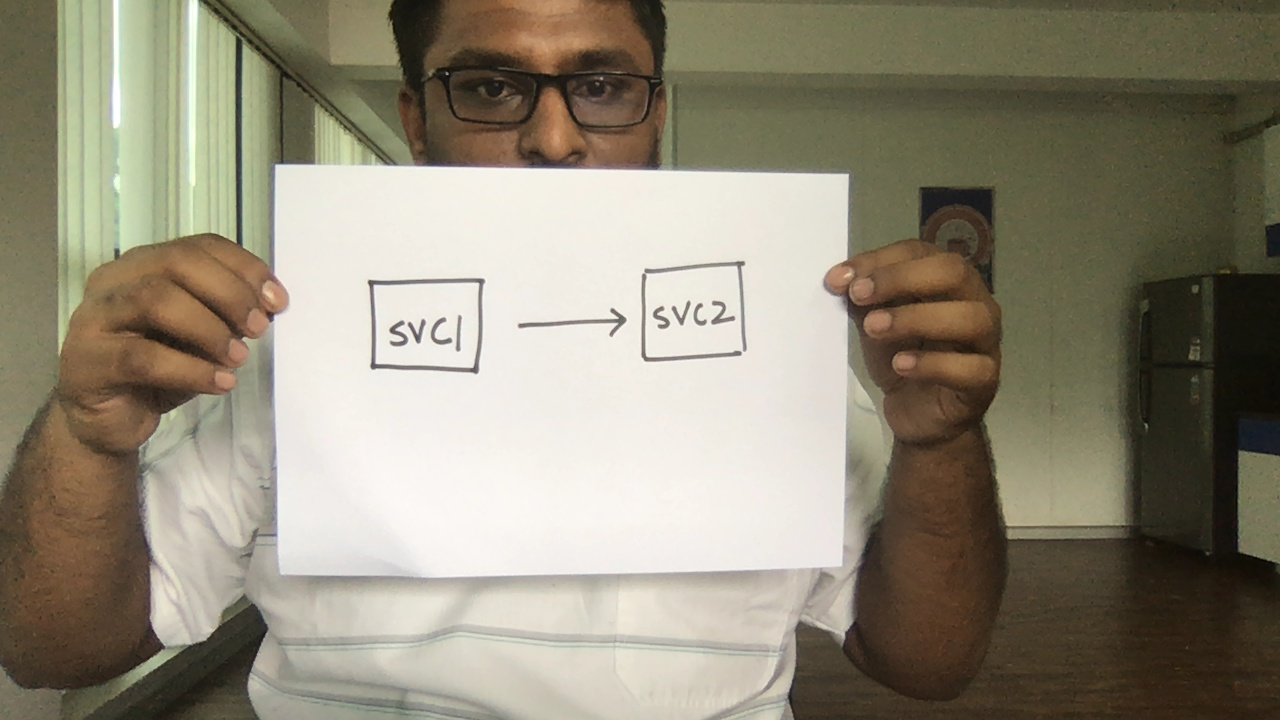arrow: (507, 288, 629, 362)
ec2: (358, 264, 493, 385), (629, 256, 764, 377)
